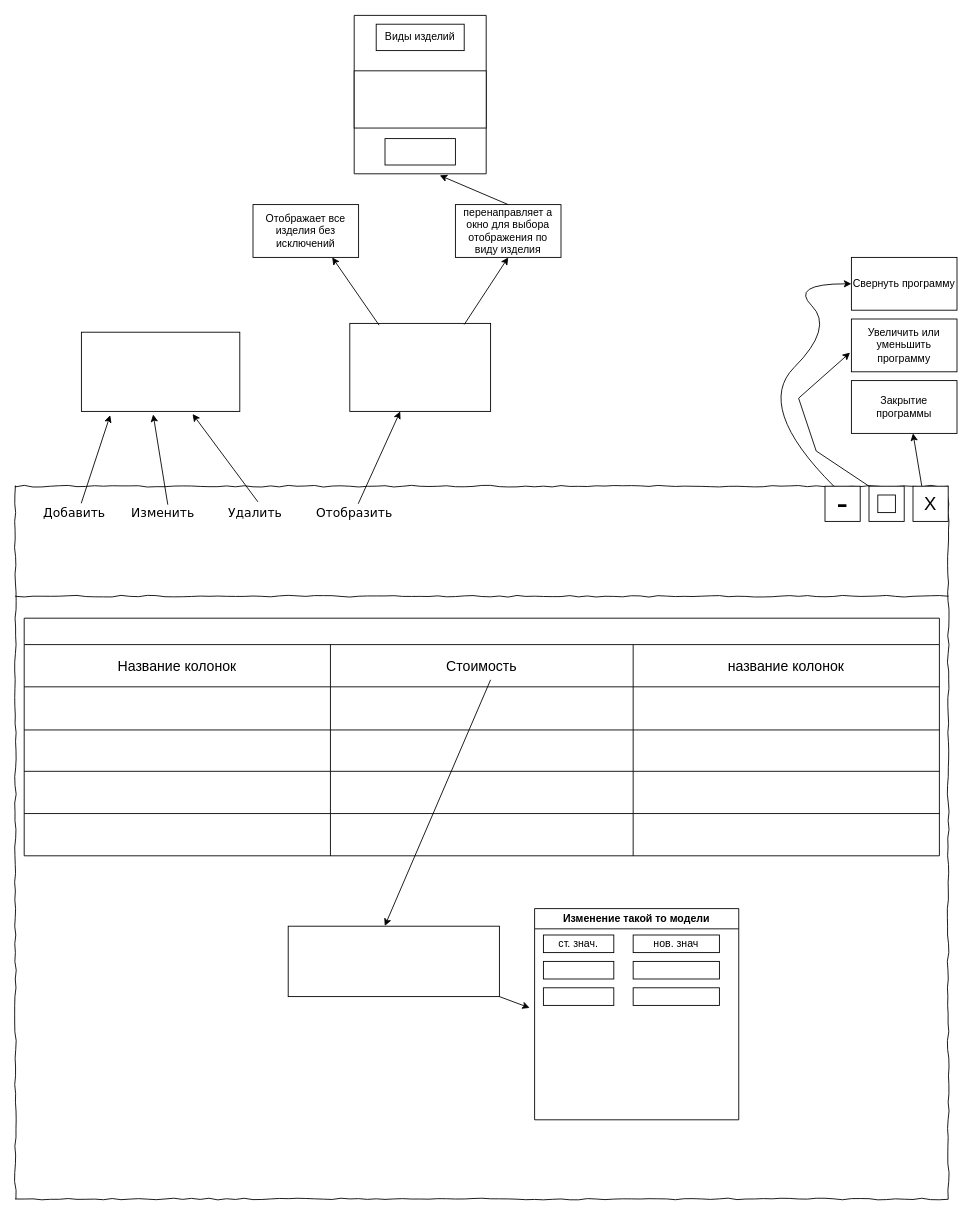
Some shapes in this 972 by 1214 pixel diagram are drawn without their labels. The shapes that lost their labels are listed below. From the top down, each one's box as (x1, y1, x2, y2) in pixels, then its label:
(353, 70, 486, 128): Список всех видов изделий
(384, 138, 455, 165): ок
(81, 331, 240, 411): применимо только к выбраному обьекту и определенной колонке
(349, 323, 491, 411): Вылезать список вариантов отображение(по изделию, все сразу)
(23, 617, 939, 856): что именно отображаем
(287, 925, 499, 997): при изменении перенаправлять на другое окно где вводяться данные
